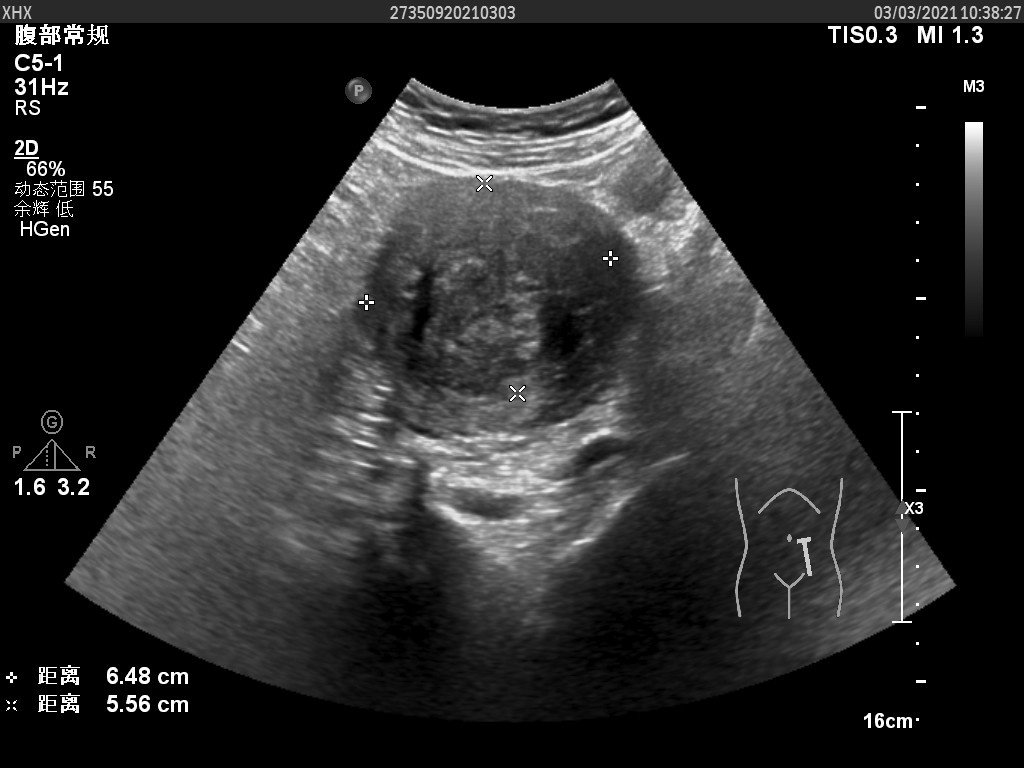肌瘤: (386, 194, 607, 390)
